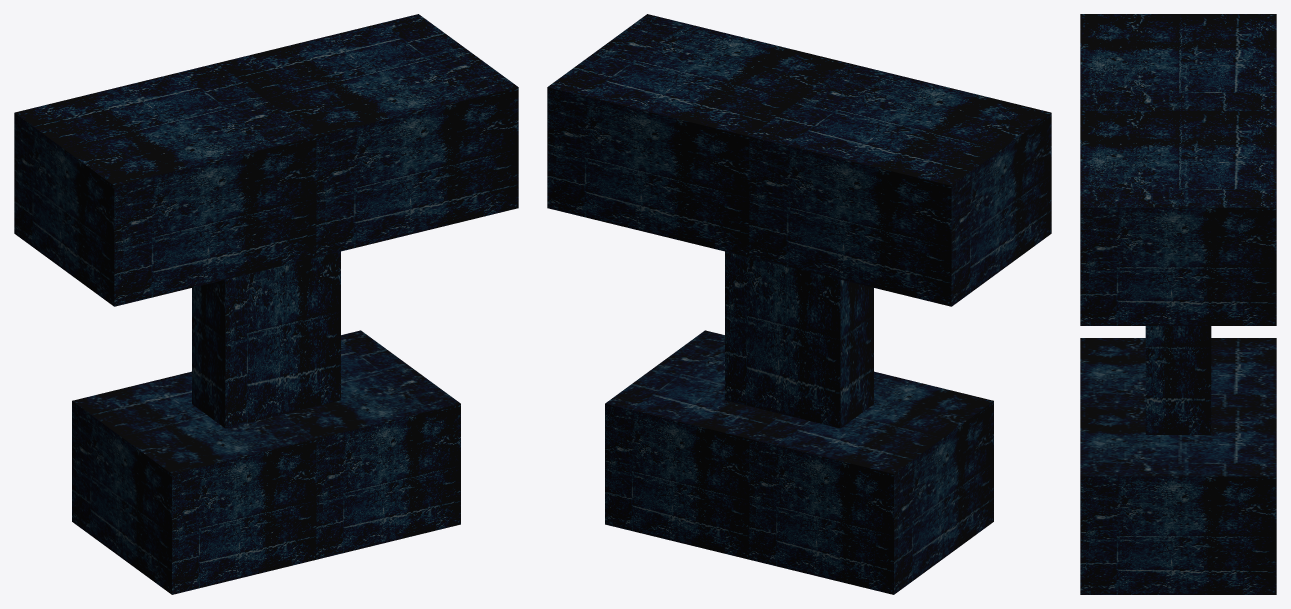
Rendered from Craft.obj.
3 views of the same model, side by side, from view 1: azimuth 30°, elevation 25°; view 2: azimuth 150°, elevation 25°; view 3: azimuth 270°, elevation 25° (orthographic).
Parts seen in each view (by area): view 1: Cube.002, Cube, Cube.001; view 2: Cube.002, Cube, Cube.001; view 3: Cube.002, Cube, Cube.001.
Part boxes in pixels (bbox=[...]): Cube.002: bbox=[14, 14, 518, 306]; Cube: bbox=[72, 330, 460, 594]; Cube.001: bbox=[192, 251, 340, 428]; Cube.002: bbox=[547, 14, 1051, 306]; Cube: bbox=[605, 330, 993, 594]; Cube.001: bbox=[725, 251, 873, 428]; Cube.002: bbox=[1080, 14, 1276, 325]; Cube: bbox=[1080, 338, 1276, 594]; Cube.001: bbox=[1145, 326, 1211, 434].
Size of the model in its own units: 1.4 by 1.4 by 0.6.
Materials: 3 (3 with a texture image).
